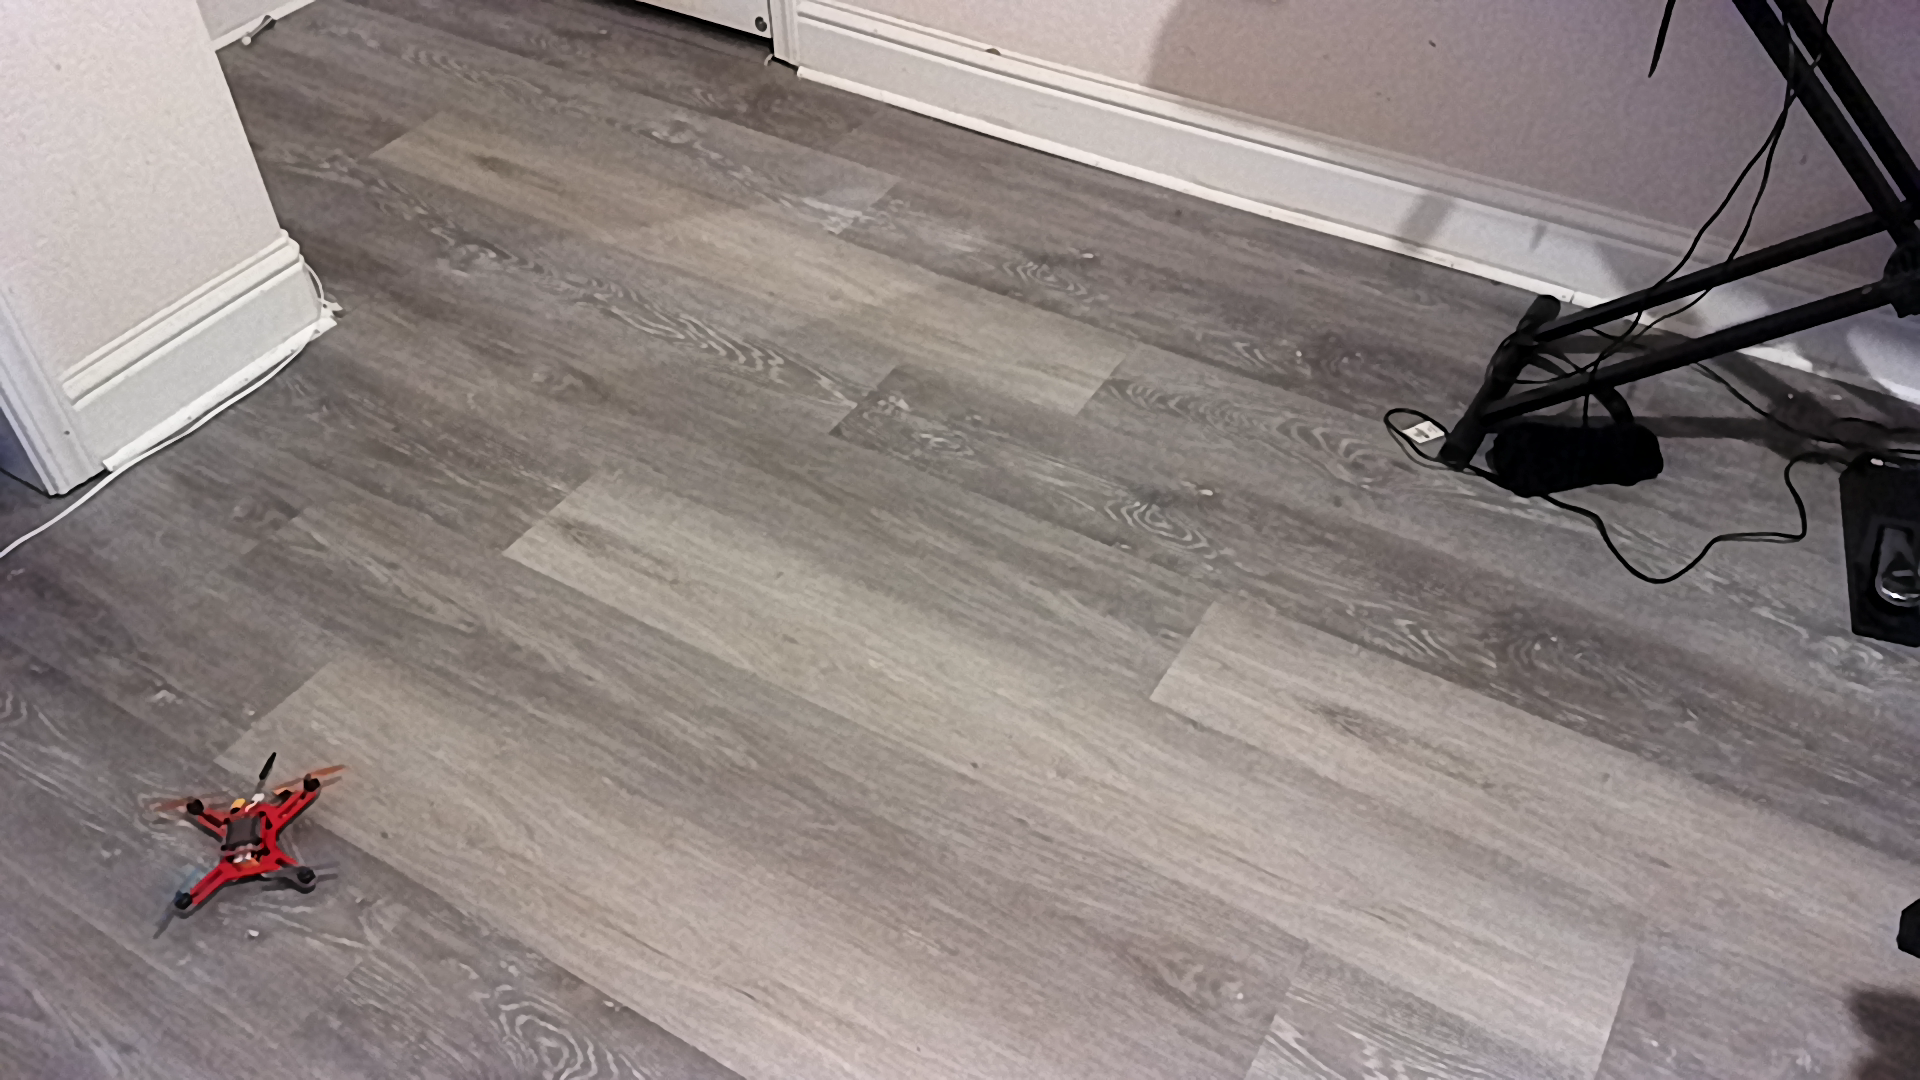drone: (138, 753, 363, 943)
